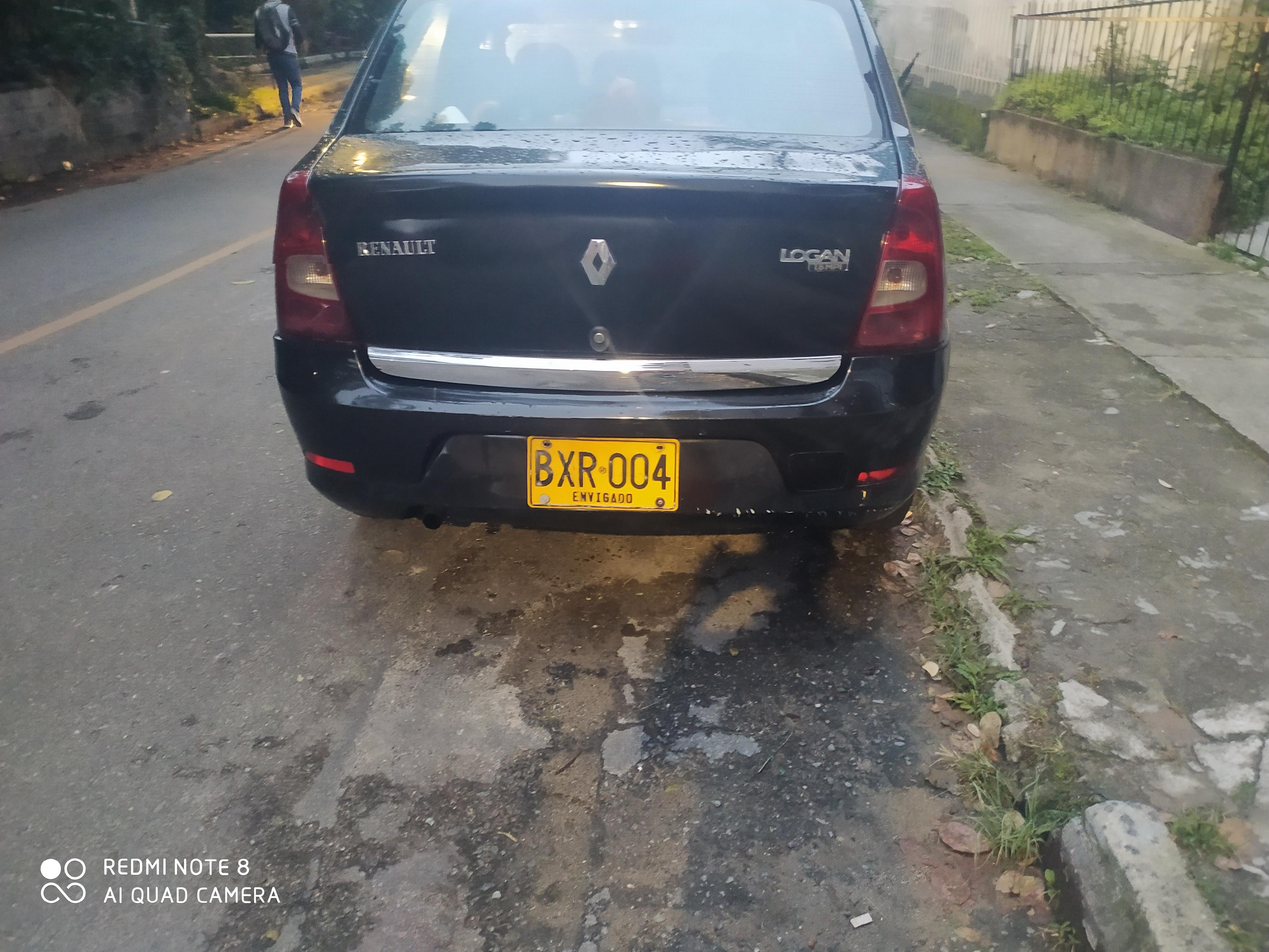placa: (518, 432, 682, 515)
